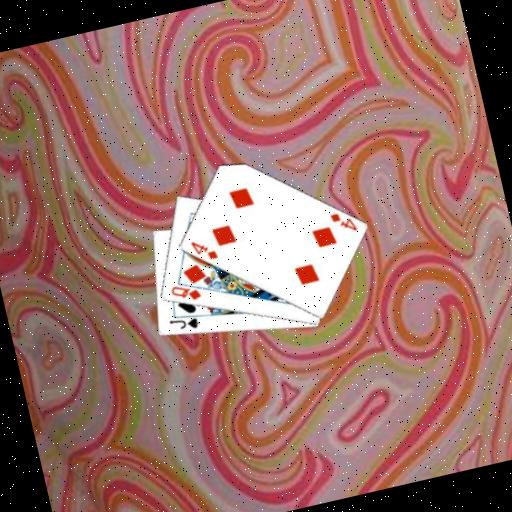4D: (325, 206, 359, 238), (187, 234, 220, 266)
JS: (166, 311, 203, 336)
QD: (167, 278, 204, 307)
